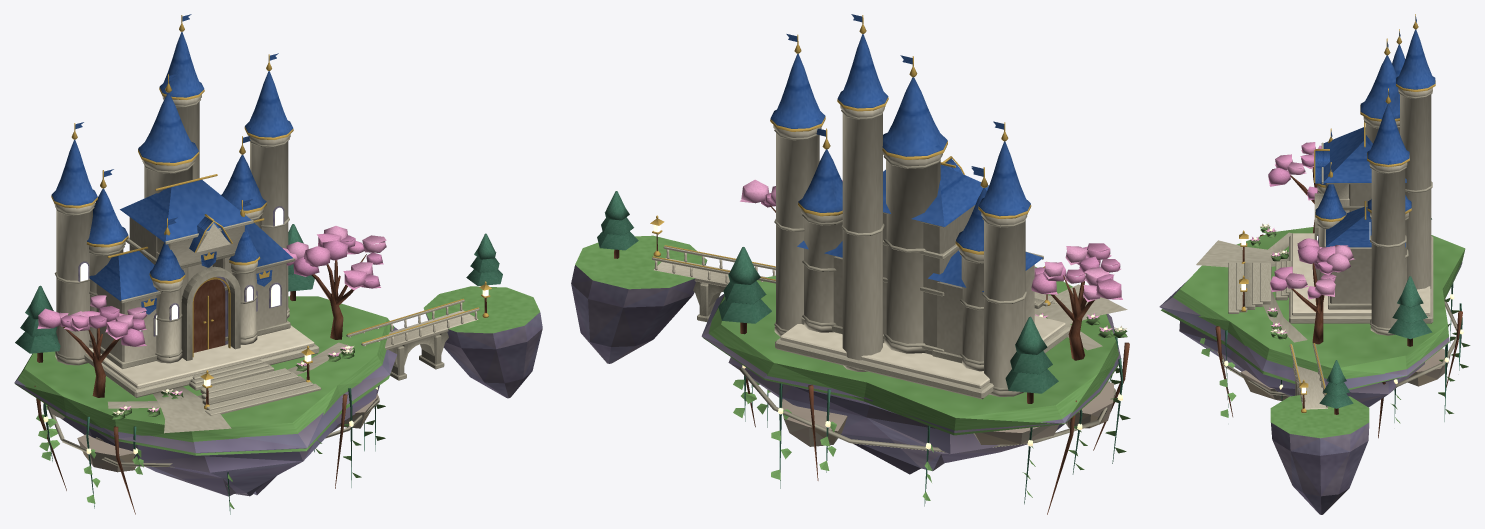
File: royal-island-citadel-v2-low.glb
3 renders of one model, left to right at view 1: azimuth 30°, elevation 25°; view 2: azimuth 150°, elevation 25°; view 3: azimuth 270°, elevation 25°, orthographic. The views are drawn at different scales.
Parts seen in each view (by area): view 1: royal-island-citadel-v2; view 2: royal-island-citadel-v2; view 3: royal-island-citadel-v2.
Boxes of the visible parts, x1,y1,x2,y2 form: royal-island-citadel-v2: (14,14,542,514); royal-island-citadel-v2: (571,14,1130,514); royal-island-citadel-v2: (1159,14,1470,514).
Size of the model in its own units: 18.97 by 16.46 by 11.41.
10 materials, 10 textured.
